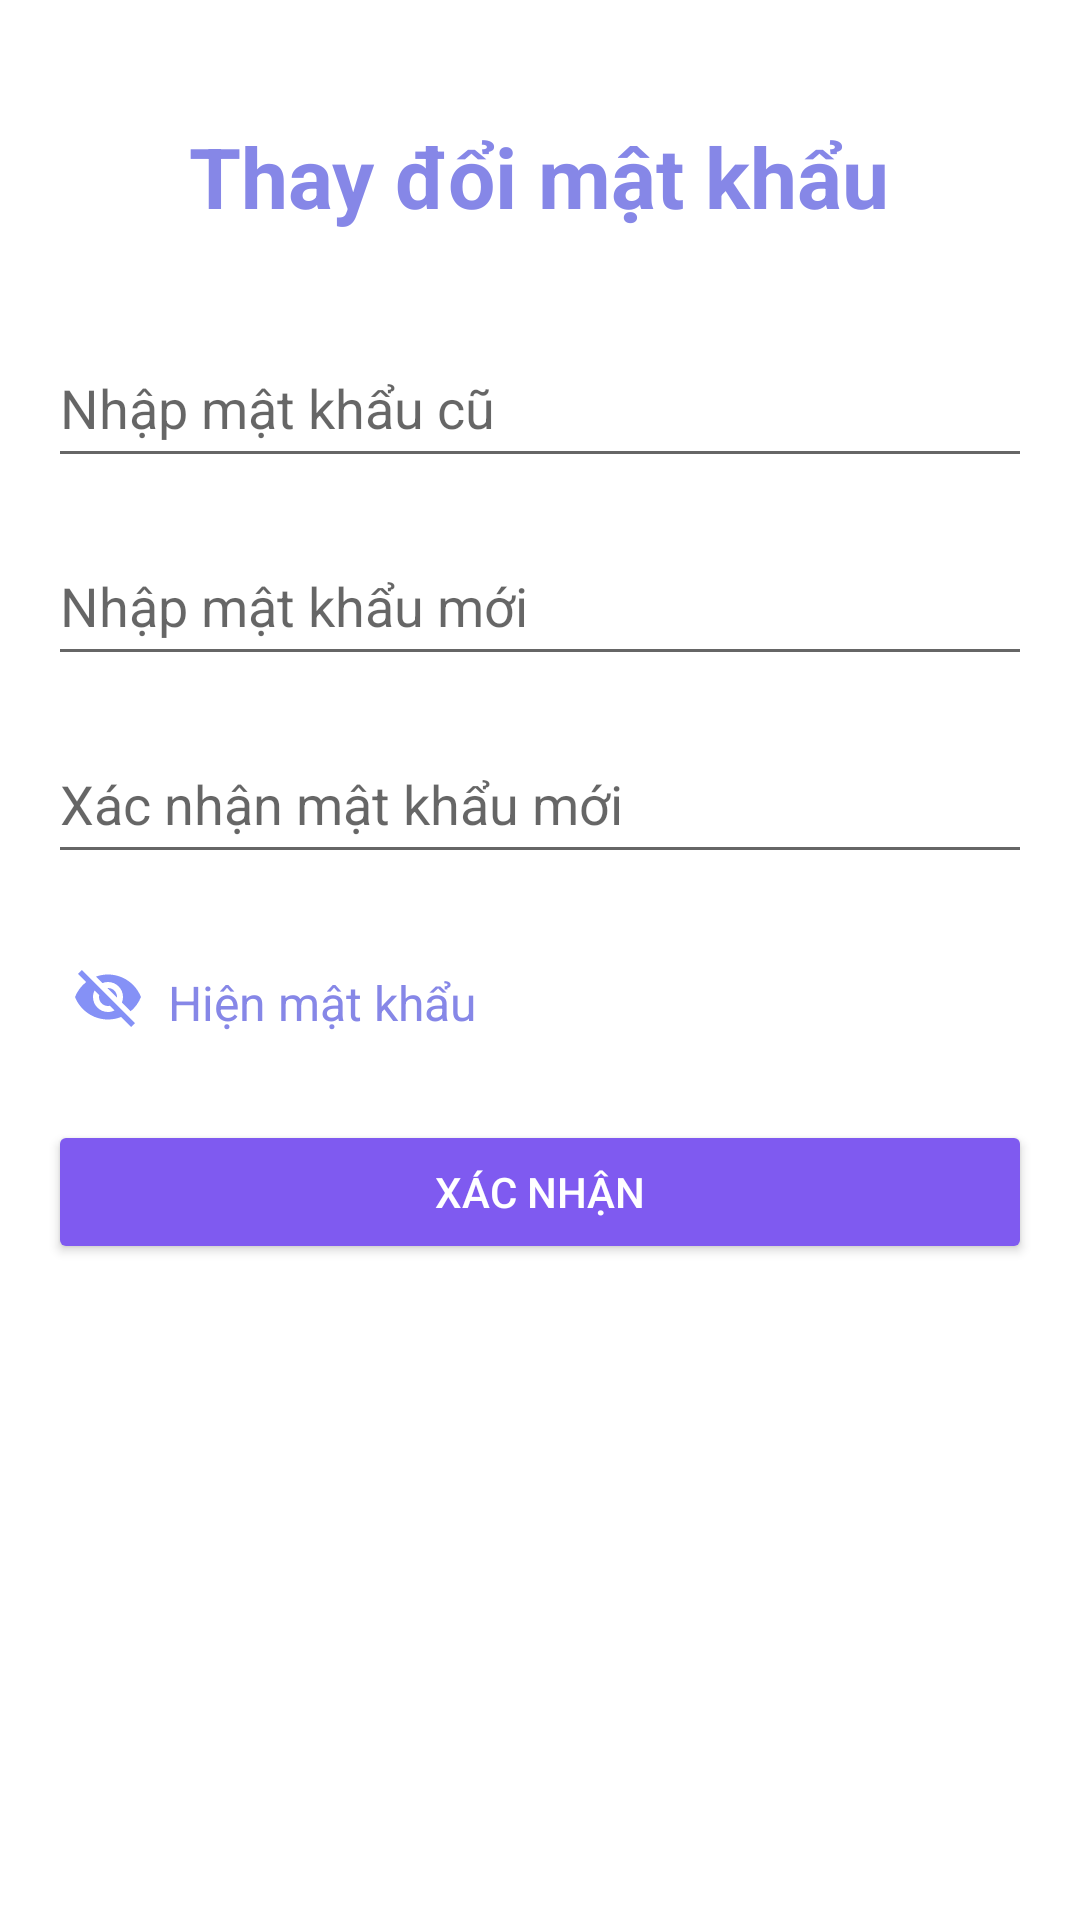

Where to tap for icons on this 1080px x 1920px app screen, as (x,y):
visibility off: (108,998)
